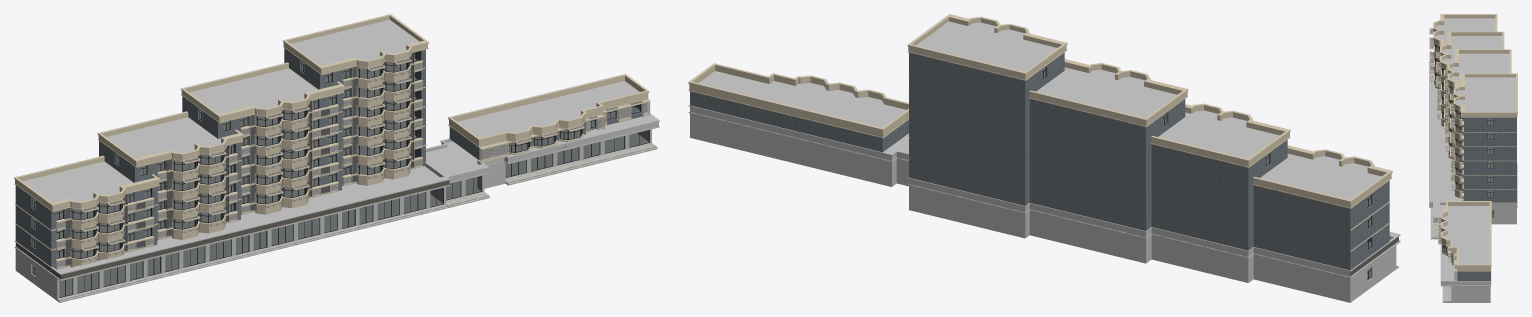
The model's file is lou28.FBX.
3 views of the same model, side by side, from view 1: azimuth 30°, elevation 25°; view 2: azimuth 150°, elevation 25°; view 3: azimuth 270°, elevation 25° (orthographic). The views are drawn at different scales.
Visible parts, largest first — view 1: lou28; view 2: lou28; view 3: lou28.
Part boxes in pixels (x1,y1,x2,y2): lou28: (14,14,659,302); lou28: (688,14,1400,302); lou28: (1429,14,1517,302).
Bounding box in the file's own units: 92309 × 21900 × 15704.
